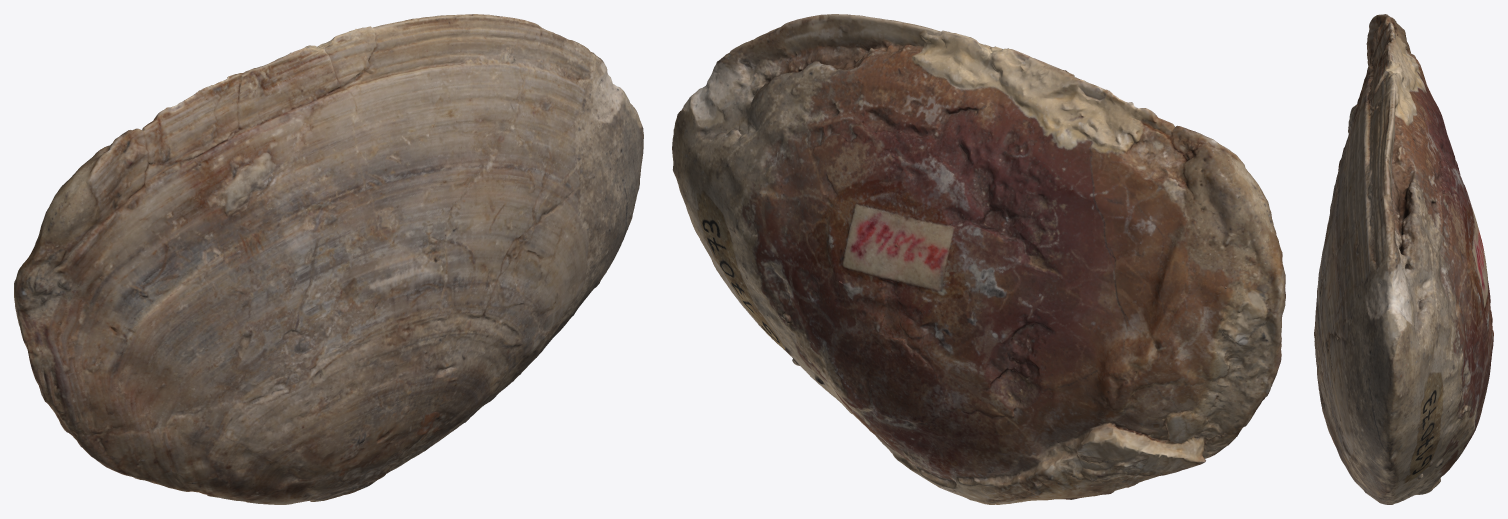
The model's file is EWS0016364.glb.
The picture shows the model from 3 angles, left to right: view 1: azimuth 30°, elevation 25°; view 2: azimuth 150°, elevation 25°; view 3: azimuth 270°, elevation 25°; orthographic projection. The views are drawn at different scales.
Visible parts, largest first — view 1: input2; view 2: input2; view 3: input2.
Boxes of the visible parts, x1,y1,x2,y2 form: input2: [14, 14, 643, 504]; input2: [672, 14, 1285, 504]; input2: [1314, 14, 1493, 504].
Bounding box in the file's own units: 0.078 × 0.055 × 0.0212.
1 material, 1 textured.
